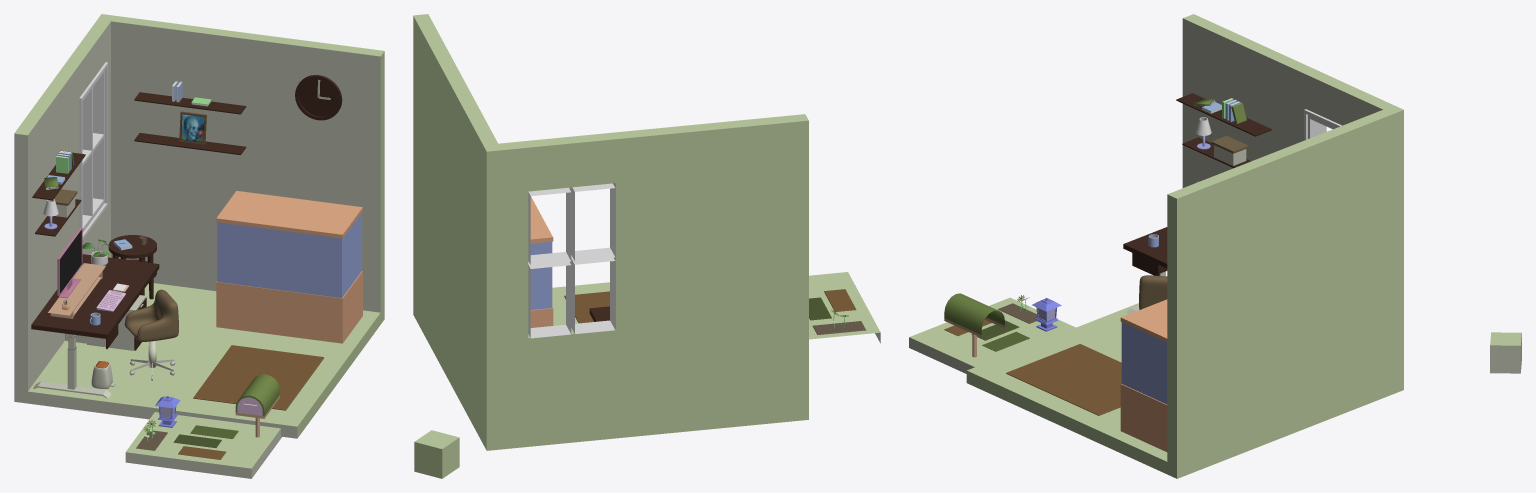
3 renders of one model, left to right at view 1: azimuth 30°, elevation 25°; view 2: azimuth 150°, elevation 25°; view 3: azimuth 270°, elevation 25°, orthographic. The views are drawn at different scales.
Parts seen in each view (by area): view 1: Plane014_2, Plane014_1, Cube136_1, Cube136, Cylinder012, Cube132_2, Plane014, Cube105, Cylinder010_6, Chair, Cube105_1, Cube132 (+13 smaller); view 2: Plane014_1, Plane014, Cube105, Cube, Cube136, Cube136_1, Cube132_2, Dirt, FloorThird; view 3: Plane014_1, Plane014_2, Cube132_2, Cube136_1, Cube105, Cube136, Cylinder018_1, Cylinder012, Cube, Cylinder010_6, Chair, Cube105_1 (+1 smaller).
Boxes of the visible parts, <box> form: Plane014_2: <box>14,21,380,438</box>; Plane014_1: <box>14,14,384,438</box>; Cube136_1: <box>216,190,362,343</box>; Cube136: <box>217,213,361,298</box>; Cylinder012: <box>31,235,159,349</box>; Cube132_2: <box>193,345,324,410</box>; Plane014: <box>79,62,107,239</box>; Cube105: <box>126,412,280,468</box>; Cylinder010_6: <box>32,92,246,236</box>; Chair: <box>124,289,178,341</box>; Cube105_1: <box>125,429,281,478</box>; Cube132: <box>87,295,175,388</box>; Plane014_1: <box>413,14,808,450</box>; Plane014: <box>528,183,615,338</box>; Cube105: <box>809,272,880,339</box>; Cube: <box>414,430,459,478</box>; Cube136: <box>530,241,552,309</box>; Cube136_1: <box>530,196,553,327</box>; Cube132_2: <box>564,291,609,323</box>; Dirt: <box>812,321,865,334</box>; FloorThird: <box>824,289,856,311</box>; Plane014_1: <box>966,14,1403,478</box>; Plane014_2: <box>1182,18,1382,187</box>; Cube132_2: <box>1006,344,1121,415</box>; Cube136_1: <box>1120,299,1167,451</box>; Cube105: <box>909,297,1075,366</box>; Cube136: <box>1121,322,1167,404</box>; Cylinder018_1: <box>944,293,1004,334</box>; Cylinder012: <box>1123,227,1167,275</box>; Cube: <box>1490,332,1521,373</box>; Cylinder010_6: <box>1176,93,1271,167</box>; Chair: <box>1139,275,1167,309</box>; Cube105_1: <box>909,337,974,373</box>.
Size of the model in its own units: 27.58 by 19.65 by 38.64.
Materials: 42 (1 with a texture image).
